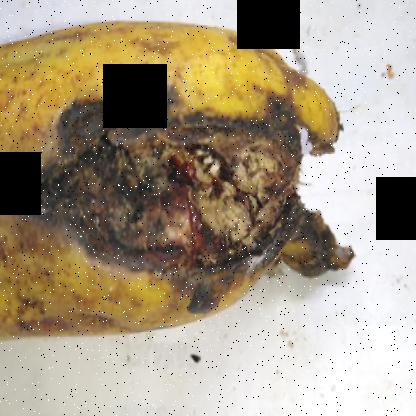ripe: (0, 20, 343, 356)
rotten: (10, 58, 361, 318)
